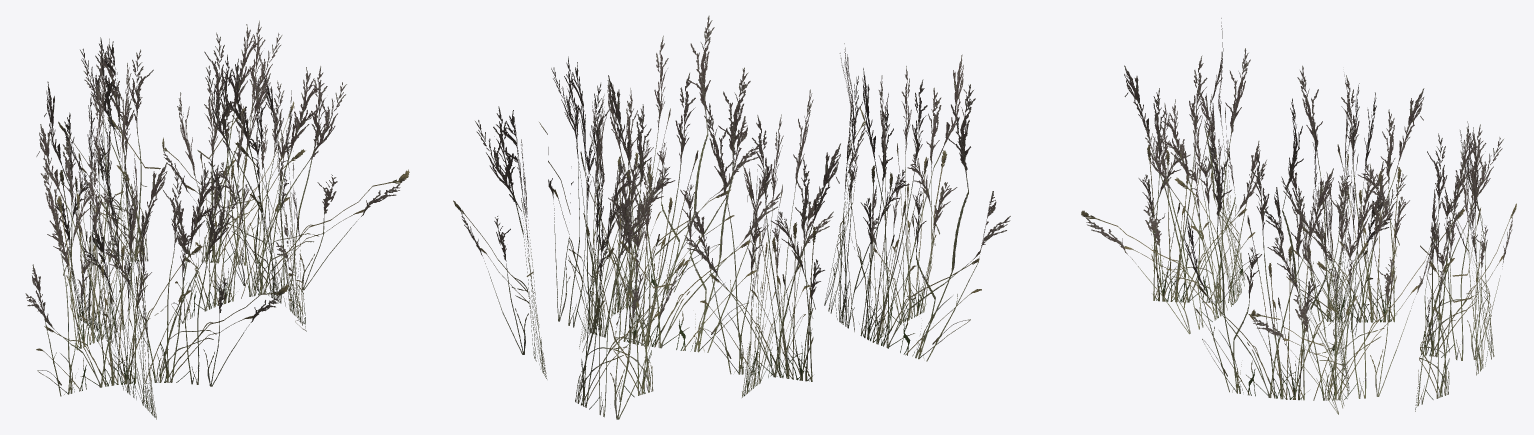
Rendered from grass_reeds.glb.
3 views of the same model, side by side, from view 1: azimuth 30°, elevation 25°; view 2: azimuth 150°, elevation 25°; view 3: azimuth 270°, elevation 25° (orthographic). The views are drawn at different scales.
Parts seen in each view (by area): view 1: Grass_Reeds_LOD0_Grass_Reeds_0; view 2: Grass_Reeds_LOD0_Grass_Reeds_0; view 3: Grass_Reeds_LOD0_Grass_Reeds_0.
Boxes of the visible parts, box(x1,y1,x2,y2) form: Grass_Reeds_LOD0_Grass_Reeds_0: box(25, 20, 409, 419); Grass_Reeds_LOD0_Grass_Reeds_0: box(453, 15, 1010, 419); Grass_Reeds_LOD0_Grass_Reeds_0: box(1081, 18, 1516, 414).
Bounding box in the file's own units: 3.35 × 1.9 × 3.12.
1 material, 1 textured.
